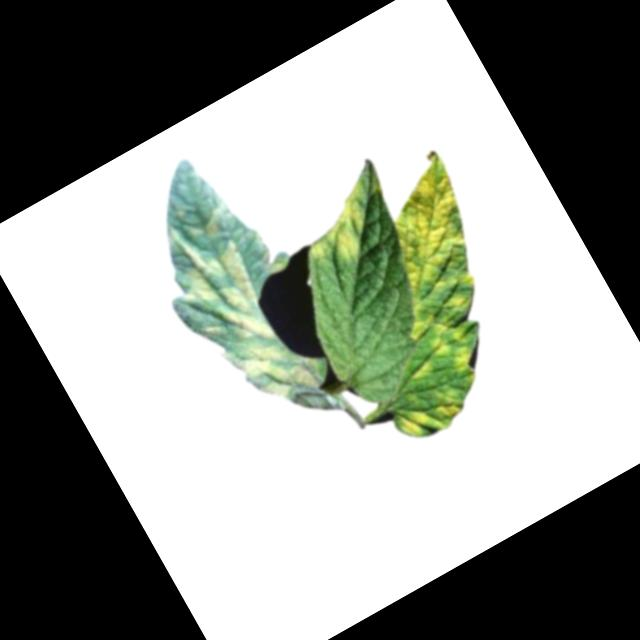Leaf_Mold: (137, 197, 337, 450), (361, 153, 496, 293), (290, 176, 392, 275), (404, 303, 468, 366), (432, 262, 486, 313), (388, 398, 436, 447), (425, 376, 472, 425), (451, 341, 486, 376)
